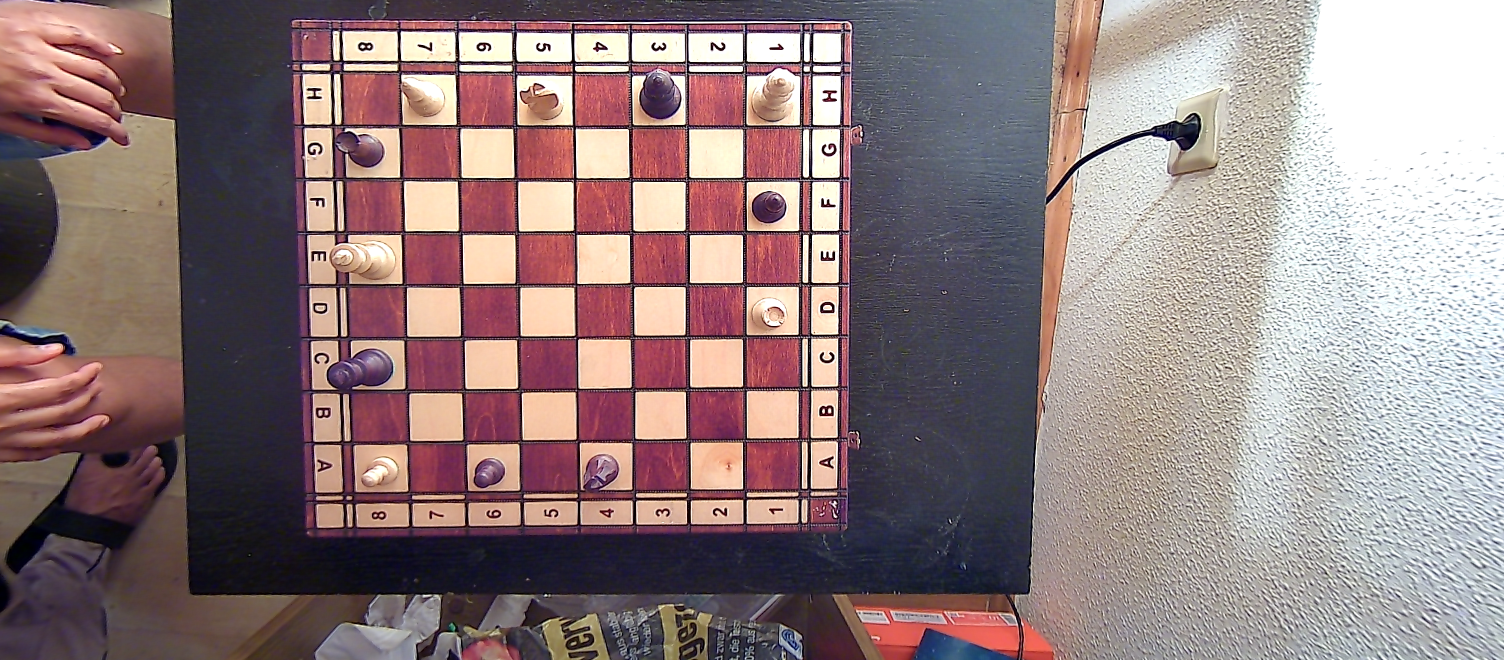black-bishop: (753, 187, 788, 226)
black-king: (328, 346, 395, 390)
black-knight: (579, 452, 620, 498)
black-pawn: (471, 454, 508, 495)
black-queen: (638, 68, 684, 121)
black-rook: (333, 128, 385, 169)
white-bishop: (396, 74, 448, 121)
white-king: (328, 237, 396, 282)
white-knight: (516, 78, 565, 123)
white-pawn: (358, 456, 399, 490)
white-queen: (750, 65, 797, 124)
white-rook: (749, 295, 791, 331)
